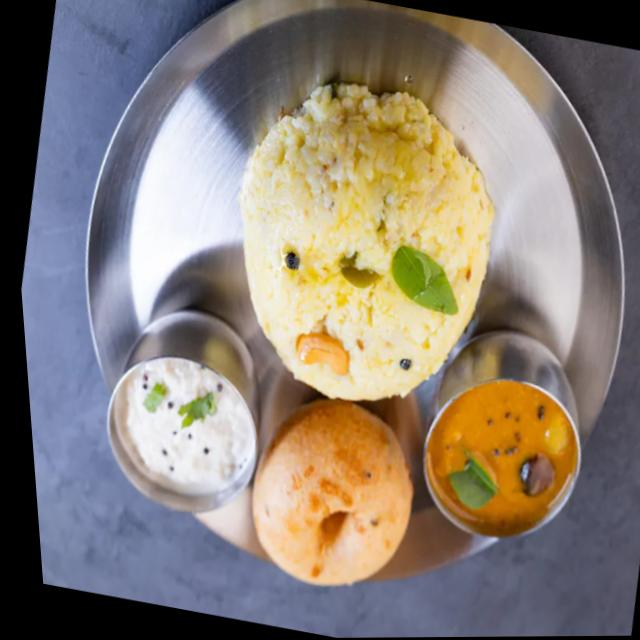PONGAL: (246, 81, 490, 401)
SAMBAR: (429, 380, 574, 524)
VADA: (254, 407, 412, 587)
WHITE CHUTNEY: (119, 360, 253, 491)
